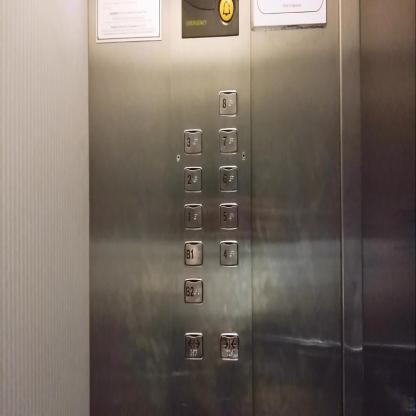1: (183, 202, 203, 230)
2: (182, 165, 203, 193)
3: (182, 128, 203, 156)
4: (218, 238, 238, 266)
5: (218, 202, 238, 230)
6: (218, 164, 238, 192)
7: (218, 127, 238, 154)
8: (218, 89, 238, 118)
B1: (183, 239, 203, 267)
B2: (184, 276, 204, 304)
alarm: (217, 0, 235, 25)
close: (219, 332, 240, 362)
open: (183, 331, 203, 361)
